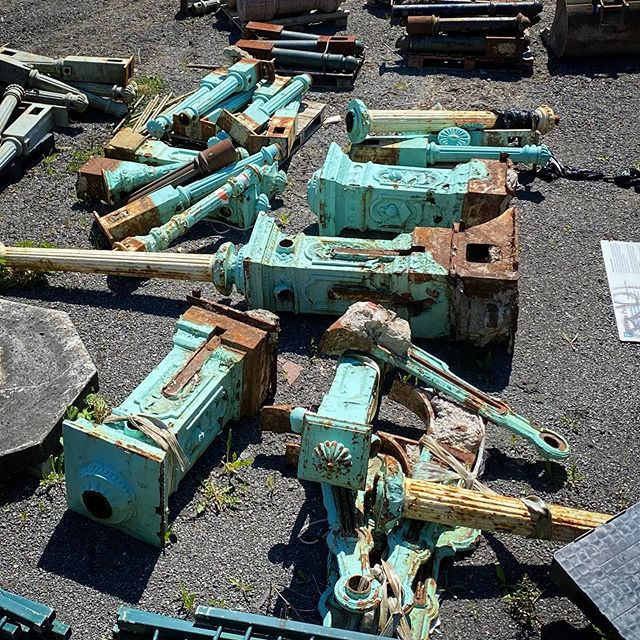trash: (9, 2, 640, 640)
